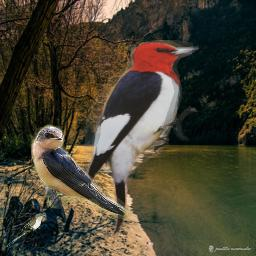Cuckoo: (5, 213, 47, 249)
Swallow: (31, 121, 135, 220)
Woodpecker: (78, 40, 199, 237)
